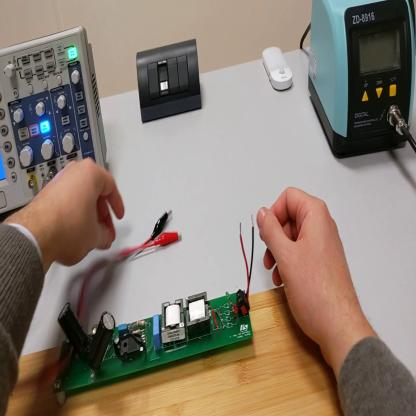hand: (257, 188, 355, 350), (44, 157, 125, 269)
high voltage board: (53, 214, 253, 404)
oscilloscope: (2, 25, 109, 216)
welder station: (309, 1, 416, 162)
working area: (6, 287, 347, 416)
